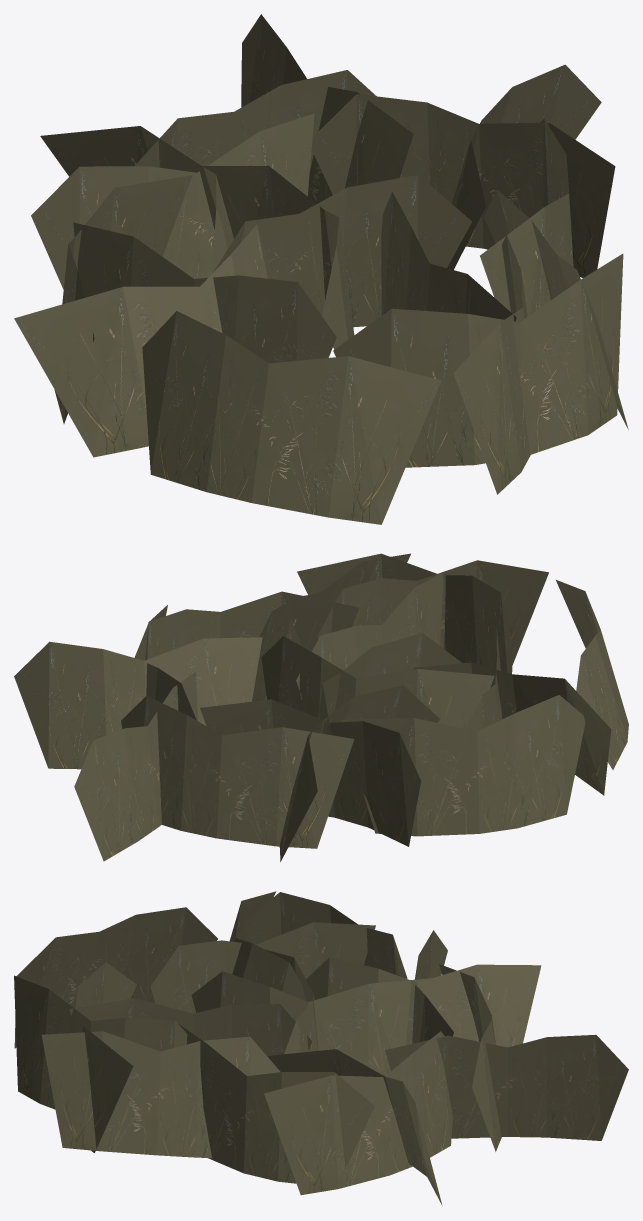
The model's file is SM_Grass_Dry02.fbx.
3 views of the same model, one above another, from view 1: azimuth 30°, elevation 25°; view 2: azimuth 150°, elevation 25°; view 3: azimuth 270°, elevation 25° (orthographic). The views are drawn at different scales.
Parts seen in each view (by area): view 1: Grass_Dry02_LOD0; view 2: Grass_Dry02_LOD0; view 3: Grass_Dry02_LOD0.
Boxes of the visible parts, x1,y1,x2,y2 form: Grass_Dry02_LOD0: [14, 14, 628, 524]; Grass_Dry02_LOD0: [14, 553, 628, 861]; Grass_Dry02_LOD0: [14, 891, 628, 1205].
Size of what is drawn, in the model's own units: 208 by 197 by 42.92.
